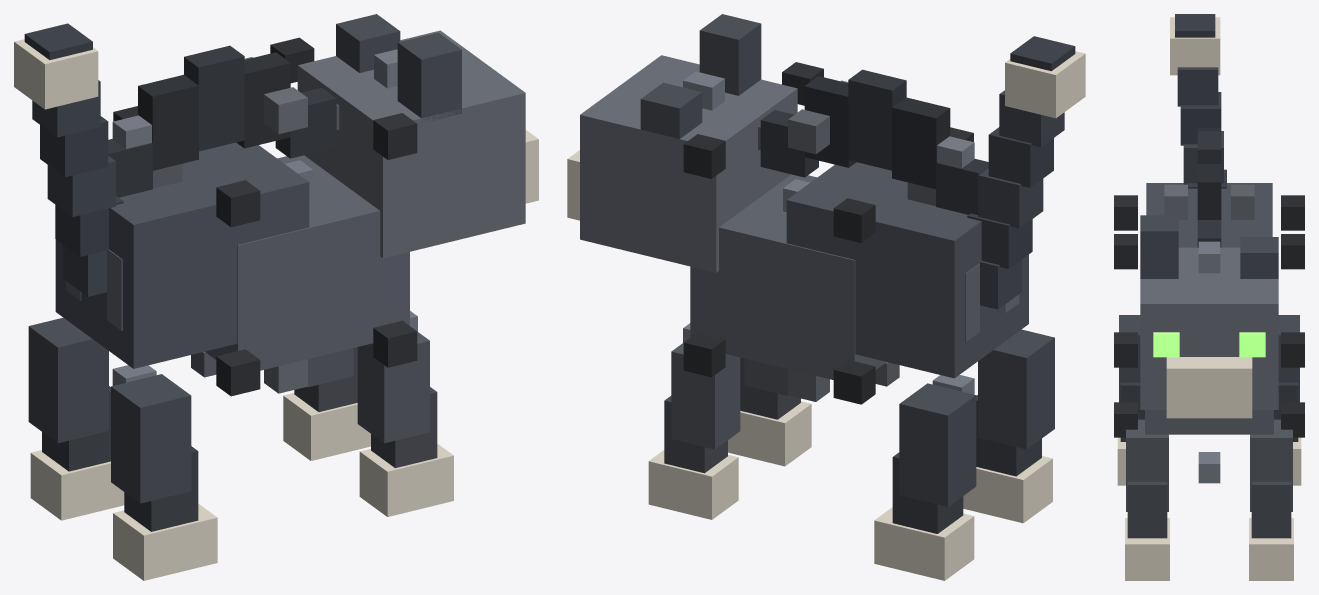
File: mill-stray-cat.glb
3 views of the same model, side by side, from view 1: azimuth 30°, elevation 25°; view 2: azimuth 150°, elevation 25°; view 3: azimuth 270°, elevation 25° (orthographic). The views are drawn at different scales.
Visible parts, largest first — view 1: Torso, HindLegs, Head, ForeLegs, Bristles, Tail, Scales, Ears, TailTip, Trim, Muzzle; view 2: Torso, HindLegs, Head, ForeLegs, Bristles, Tail, Scales, Ears, Trim, TailTip, Muzzle; view 3: Head, ForeLegs, Scales, Torso, Muzzle, Tail, Ears, HindLegs, Bristles, TailTip, Trim, Eyes.
Boxes of the visible parts, x1,y1,x2,y2 form: Torso: (55,142,409,370); HindLegs: (28,317,217,580); Head: (297,30,525,258); ForeLegs: (283,331,453,516); Bristles: (108,45,336,197); Tail: (24,23,123,296); Scales: (66,37,417,396); Ears: (336,14,461,122); TailTip: (14,39,98,109); Trim: (112,49,417,385); Muzzle: (525,130,538,203); Torso: (690,162,1028,379); HindLegs: (874,329,1054,580); Head: (580,55,797,272); ForeLegs: (648,343,811,519); Bristles: (760,69,988,214); Tail: (967,36,1075,309); Scales: (683,62,1019,404); Ears: (640,14,761,138); Trim: (683,71,974,394); TailTip: (1005,51,1085,118); Muzzle: (567,150,579,220); Head: (1140,247,1278,409); ForeLegs: (1125,419,1293,580); Scales: (1114,184,1304,437); Torso: (1145,183,1273,434); Muzzle: (1166,357,1252,418); Tail: (1175,14,1226,188); Ears: (1140,215,1278,278); HindLegs: (1117,315,1301,485); Bristles: (1197,127,1221,247); TailTip: (1170,17,1220,75); Trim: (1198,241,1220,483); Eyes: (1153,332,1265,357).
Bounding box in the file's own units: 3.86 × 3.88 × 1.6.
